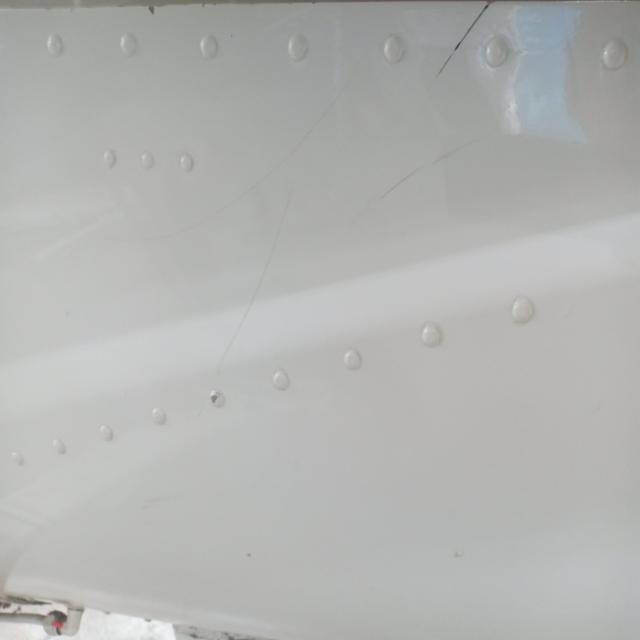Crack: (438, 0, 498, 106), (197, 366, 234, 434)
